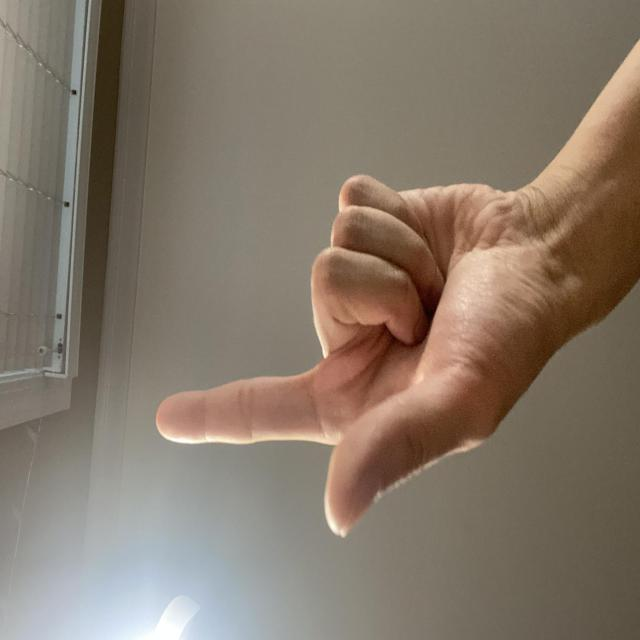L: (67, 193, 356, 640)
